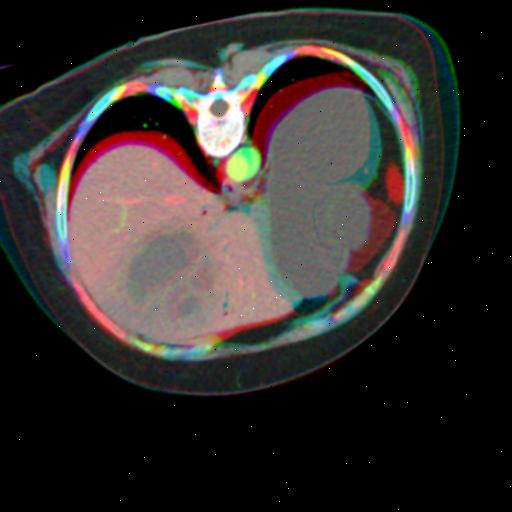Abscess: (121, 229, 213, 323)
